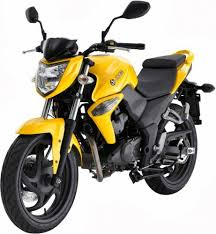motorcycle: (2, 2, 214, 234)
